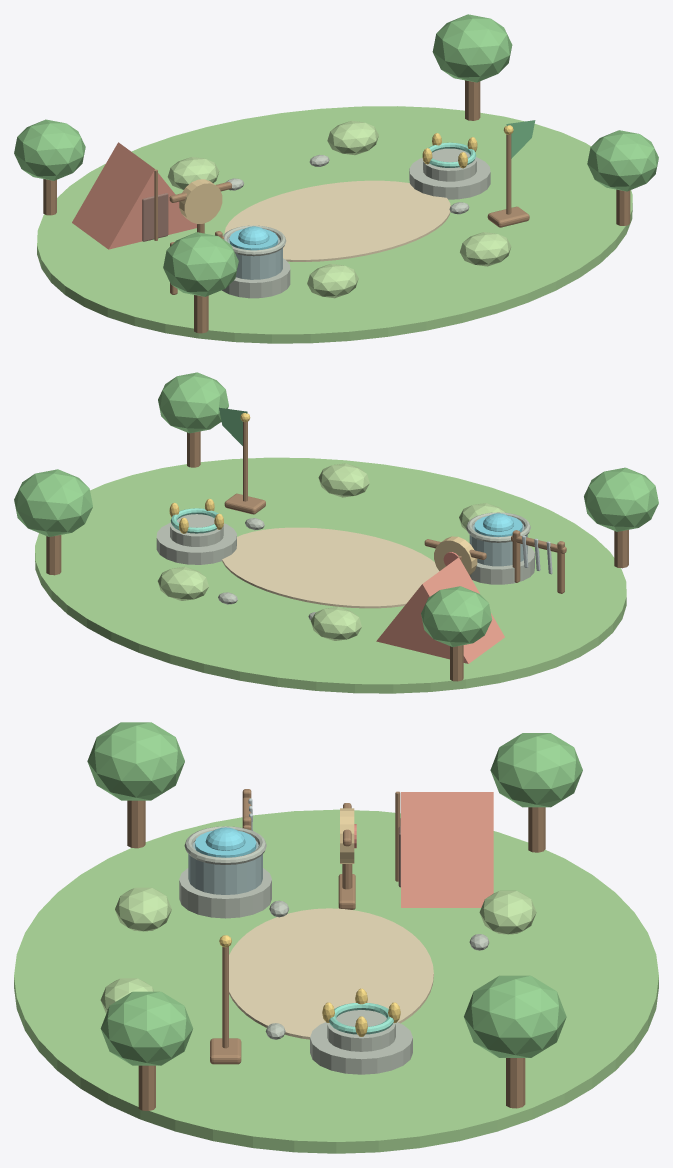
Rendered from camp.glb.
3 views of the same model, one above another, from view 1: azimuth 30°, elevation 25°; view 2: azimuth 150°, elevation 25°; view 3: azimuth 270°, elevation 25° (orthographic). The views are drawn at different scales.
Parts seen in each view (by area): view 1: CampGround, CampClearing, CampTent, CampTree1Crown, CampTree2Crown, CampTree0Crown, CampTree3Crown, FusionAltarBase, TrainingDummyBody, CampBush3, CampBush1, CampBush2 (+15 smaller); view 2: CampGround, CampClearing, CampTree1Crown, CampTent, CampTree2Crown, CampTree0Crown, CampTree3Crown, FusionAltarBase, CampBush3, CampBush0, CampBush1, NurseryVatBase (+13 smaller); view 3: CampGround, CampClearing, CampTent, CampTree1Crown, CampTree2Crown, CampTree3Crown, CampTree0Crown, FusionAltarBase, NurseryVatBase, NurseryVatBody, CampBush0, CampBush2 (+13 smaller).
Boxes of the visible parts, x1,y1,x2,y2 form: CampGround: (37, 106, 632, 343); CampClearing: (224, 180, 450, 261); CampTent: (72, 142, 196, 249); CampTree1Crown: (432, 14, 512, 82); CampTree2Crown: (163, 232, 238, 296); CampTree0Crown: (14, 119, 85, 180); CampTree3Crown: (587, 130, 658, 191); FusionAltarBase: (409, 157, 490, 199); TrainingDummyBody: (179, 179, 222, 223); CampBush3: (460, 232, 511, 266); CampBush1: (327, 120, 378, 155); CampBush2: (307, 263, 358, 298); CampGround: (35, 457, 626, 693); CampClearing: (222, 527, 439, 608); CampTree1Crown: (14, 469, 92, 536); CampTent: (376, 557, 504, 663); CampTree2Crown: (584, 467, 658, 531); CampTree0Crown: (421, 586, 492, 646); CampTree3Crown: (158, 372, 228, 433); FusionAltarBase: (156, 523, 236, 564); CampBush3: (318, 463, 369, 497); CampBush0: (310, 607, 361, 640); CampBush1: (157, 566, 208, 600); NurseryVatBase: (470, 545, 534, 584); CampGround: (14, 809, 658, 1153); CampClearing: (229, 908, 433, 1039); CampTent: (401, 792, 493, 907); CampTree1Crown: (464, 975, 566, 1057); CampTree2Crown: (87, 722, 184, 800); CampTree3Crown: (100, 991, 193, 1065); CampTree0Crown: (490, 733, 582, 807); FusionAltarBase: (310, 1022, 412, 1074); NurseryVatBase: (179, 868, 271, 918); NurseryVatBody: (188, 841, 262, 894); CampBush0: (479, 890, 536, 934); CampBush2: (115, 887, 171, 931).
Size of the model in its own units: 11 by 2.11 by 9.02.
